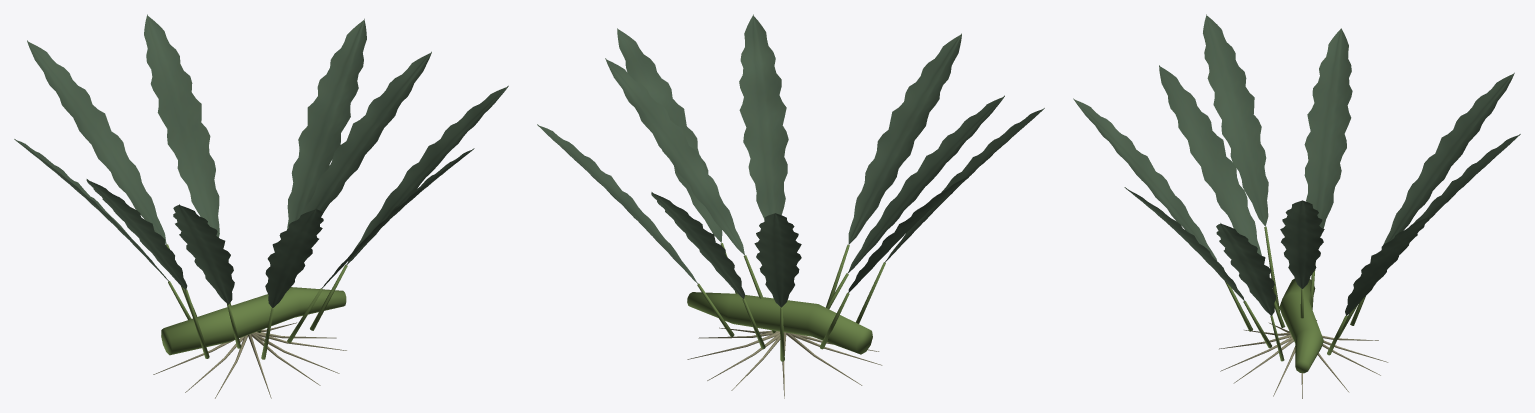
File: buce-desktop.glb
3 renders of one model, left to right at view 1: azimuth 30°, elevation 25°; view 2: azimuth 150°, elevation 25°; view 3: azimuth 270°, elevation 25°, orthographic. The views are drawn at different scales.
Visible parts, largest first — view 1: blade, creeping-rhizome, anchoring-root, petiole; view 2: blade, creeping-rhizome, petiole, anchoring-root; view 3: blade, creeping-rhizome, petiole, anchoring-root.
Boxes of the visible parts, x1,y1,x2,y2 form: blade: (14, 14, 508, 308); creeping-rhizome: (161, 287, 346, 355); anchoring-root: (153, 322, 346, 398); petiole: (166, 244, 347, 359); blade: (537, 14, 1044, 307); creeping-rhizome: (687, 292, 872, 354); petiole: (697, 243, 885, 361); anchoring-root: (687, 327, 882, 398); blade: (1073, 14, 1520, 315); creeping-rhizome: (1279, 278, 1323, 373); petiole: (1225, 226, 1365, 361); anchoring-root: (1219, 320, 1388, 398).
Bounding box in the file's own units: 0.6317 × 0.3816 × 0.6198.
